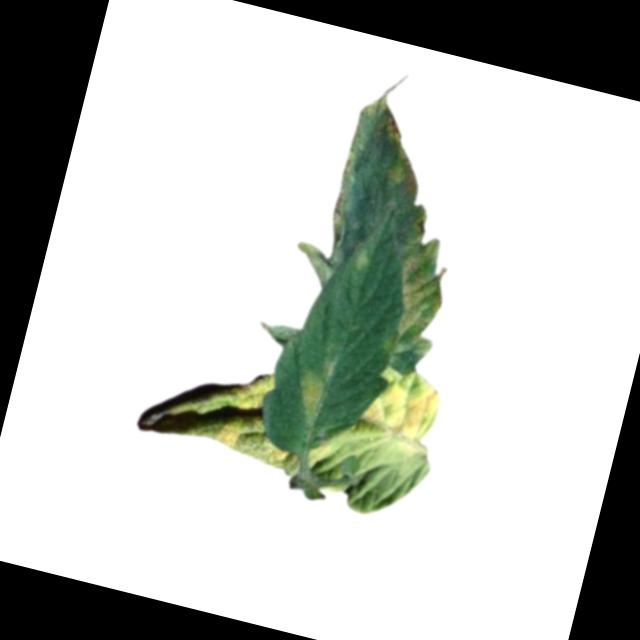Leaf_Mold: (156, 354, 313, 474), (378, 235, 457, 365), (361, 364, 447, 452), (380, 151, 427, 208), (291, 369, 331, 429), (374, 106, 407, 145)
